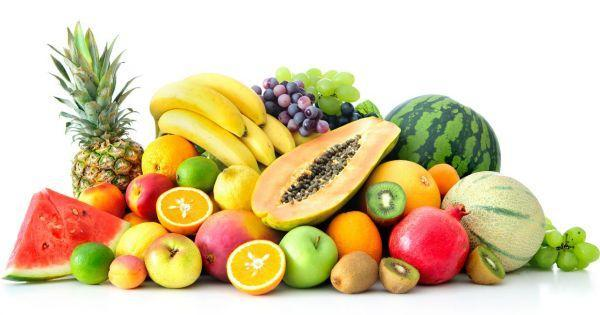apple: (193, 207, 271, 277), (278, 224, 338, 288), (144, 232, 203, 288), (76, 180, 127, 217)
